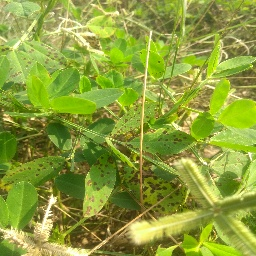GroundNut_Leaf: (81, 154, 119, 215), (7, 181, 40, 231), (25, 40, 68, 70), (220, 99, 256, 129), (51, 95, 96, 116), (26, 74, 49, 113), (46, 121, 73, 151), (215, 56, 255, 73), (190, 111, 214, 139), (1, 129, 19, 163)
